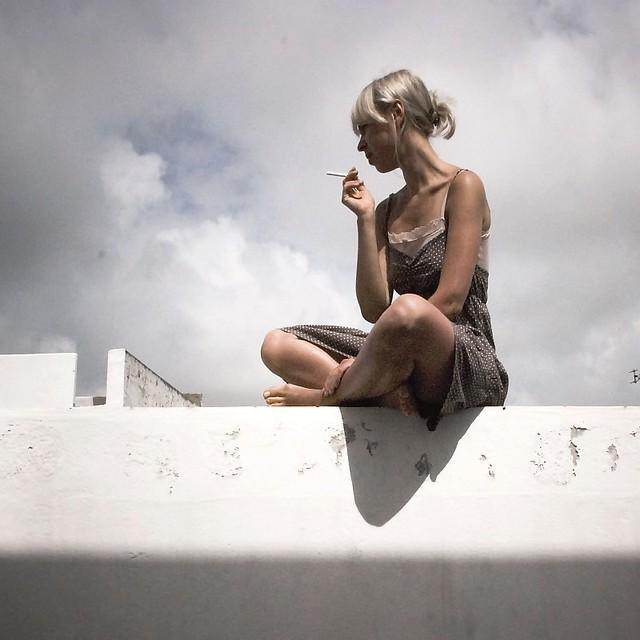rokok: (320, 168, 354, 182)
